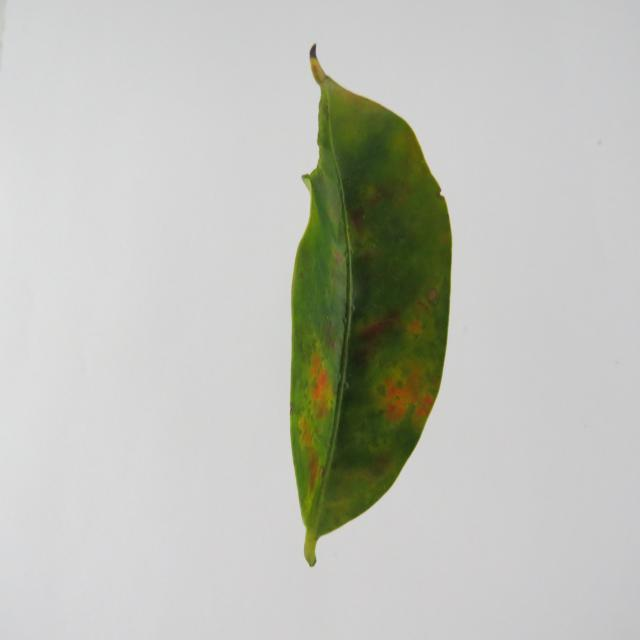DeficienciaNutricional-Fosforo: (290, 45, 451, 565)
